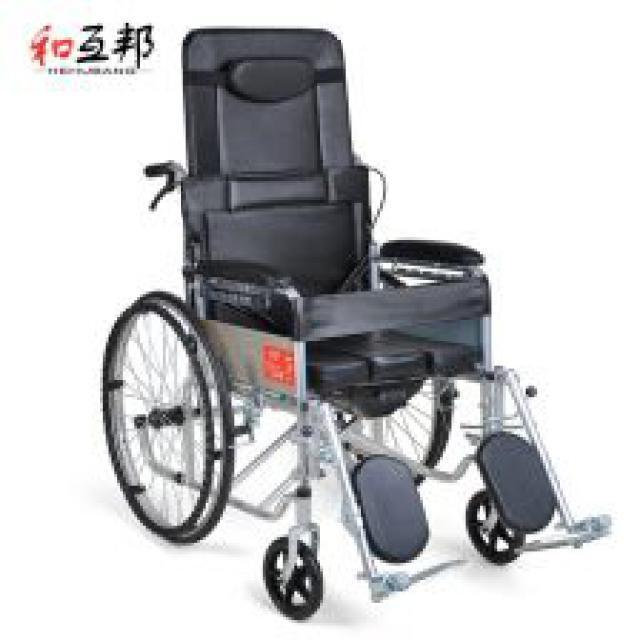wheelchairs: (99, 21, 607, 627)
